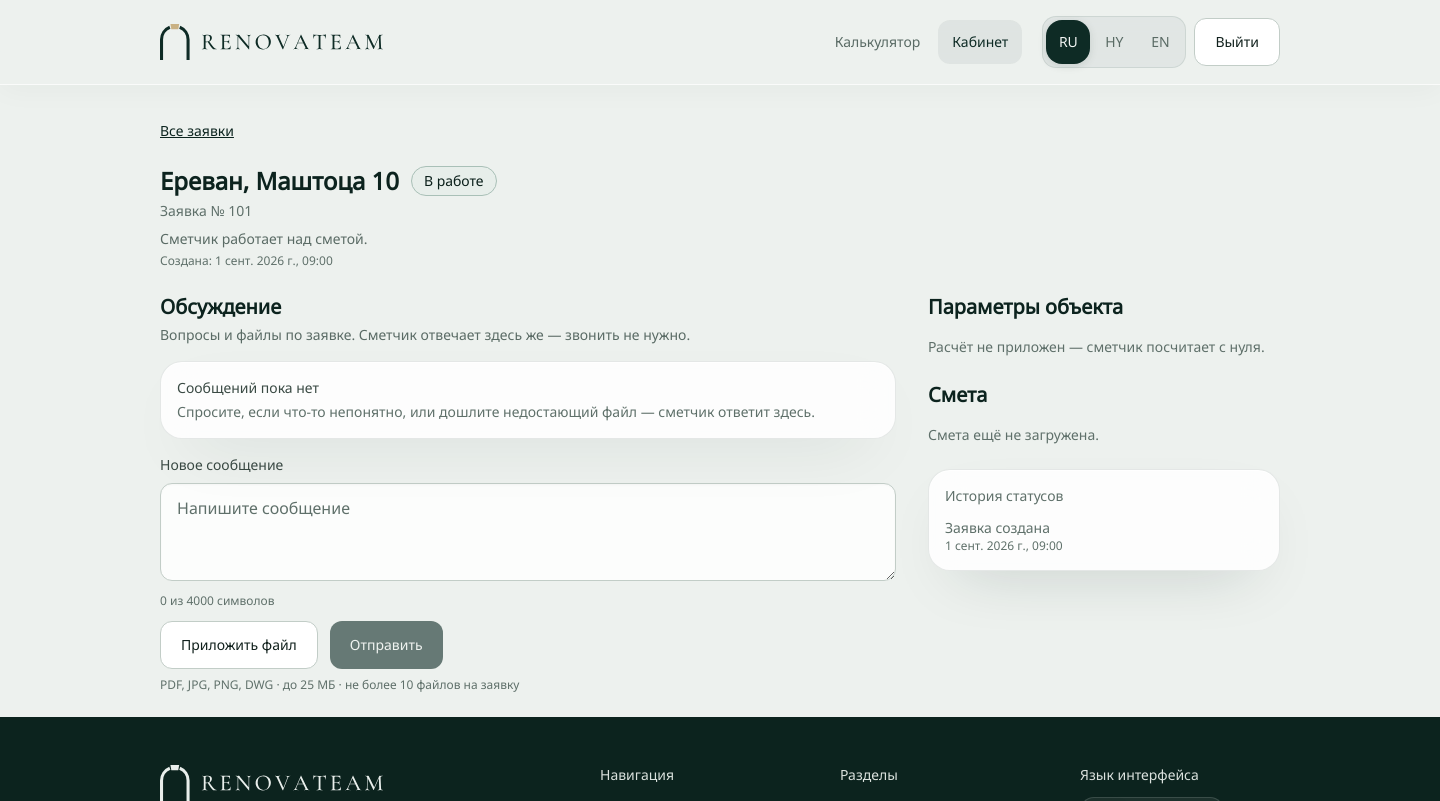
лента обсуждения в кабинете › счётчик символов виден заранее и следует за вводом
The image size is (1440, 801).
Expected: the text "0 из 4000 символов" is shown, [160,592,274,609]
Type "Спасибо" into the text box labelled "Новое сообщение" at (528, 532), box [160,483,896,581]
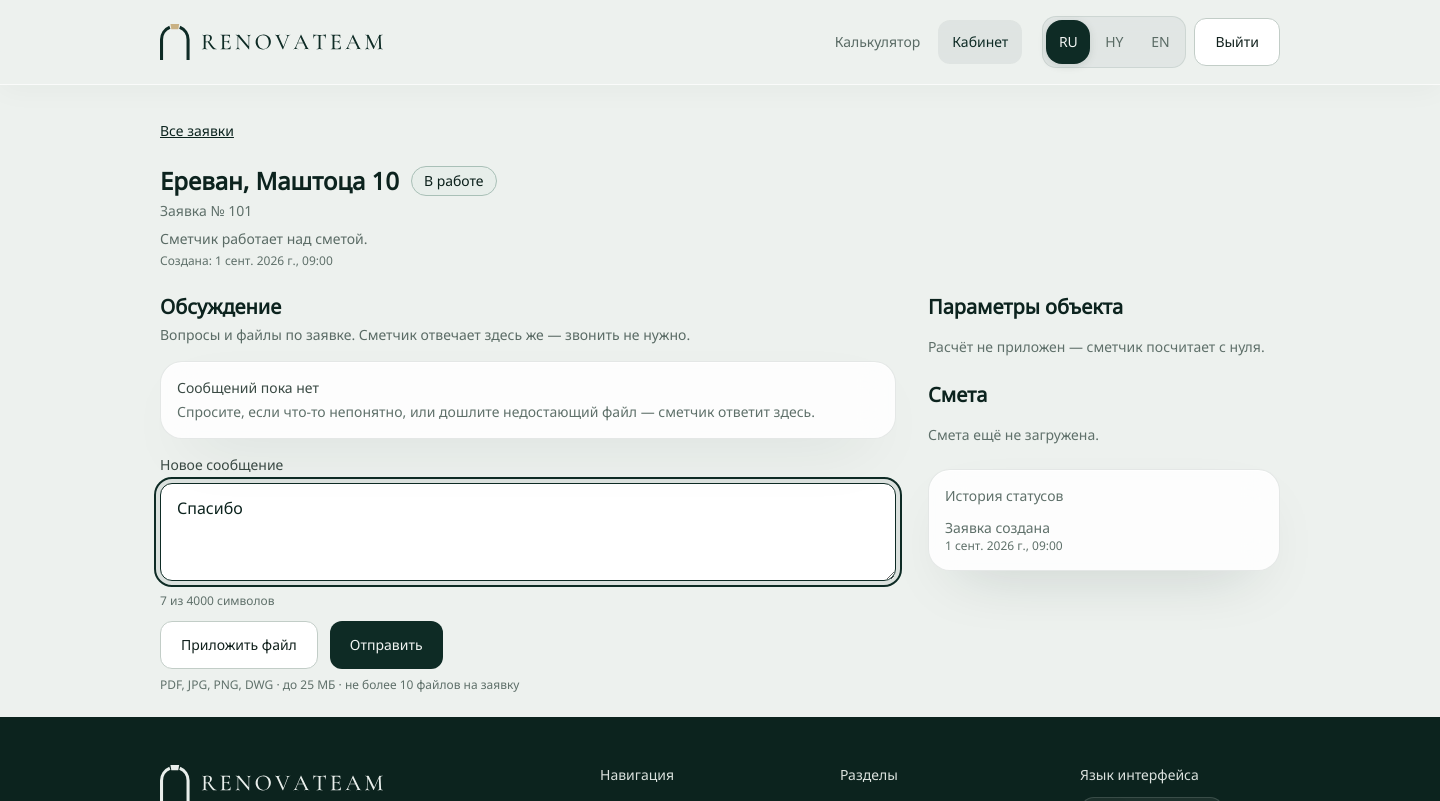
Result: the text "7 из 4000 символов" is shown at [160,592,274,609]
